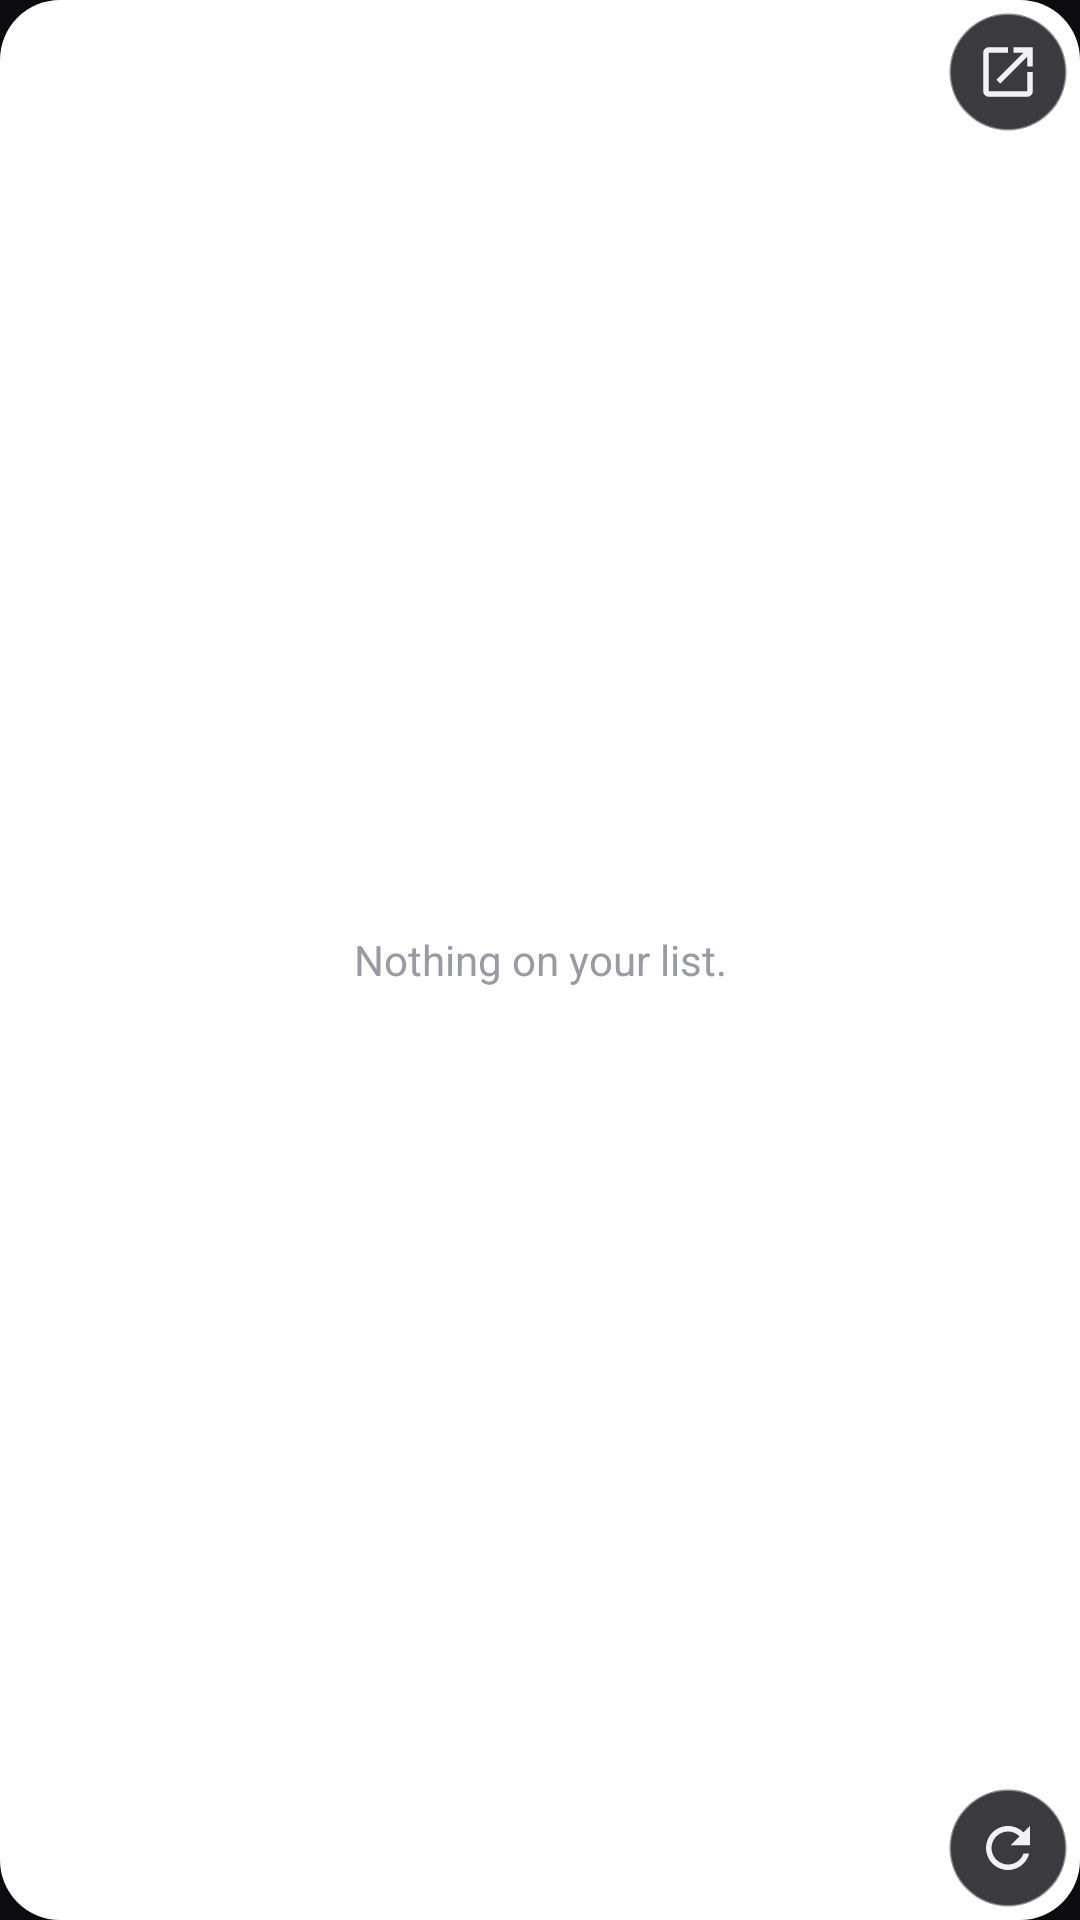

Icons on this 1080w x 1920h Android screen, each with its box as (x1, y1, x2, y2):
Open: (949, 13, 1067, 131)
Refresh: (949, 1789, 1067, 1907)
